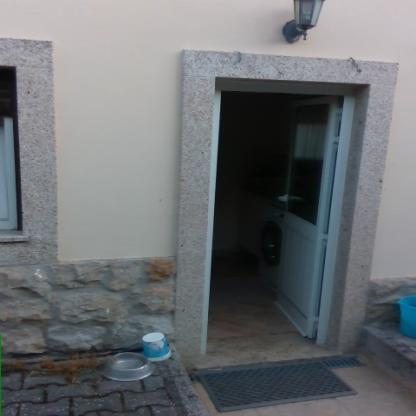open: (194, 66, 381, 363)
